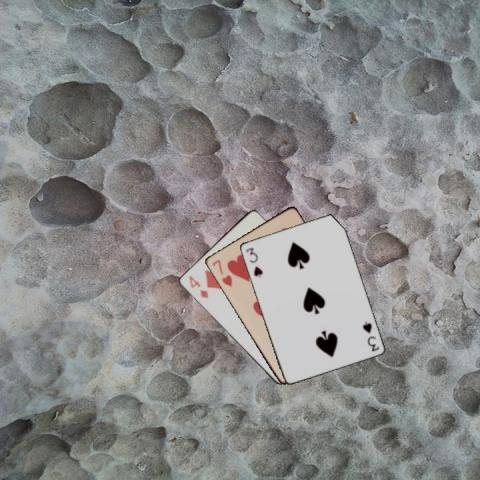3s: (359, 318, 380, 353), (243, 244, 264, 278)
4d: (185, 273, 210, 300)
7h: (209, 257, 233, 288)
